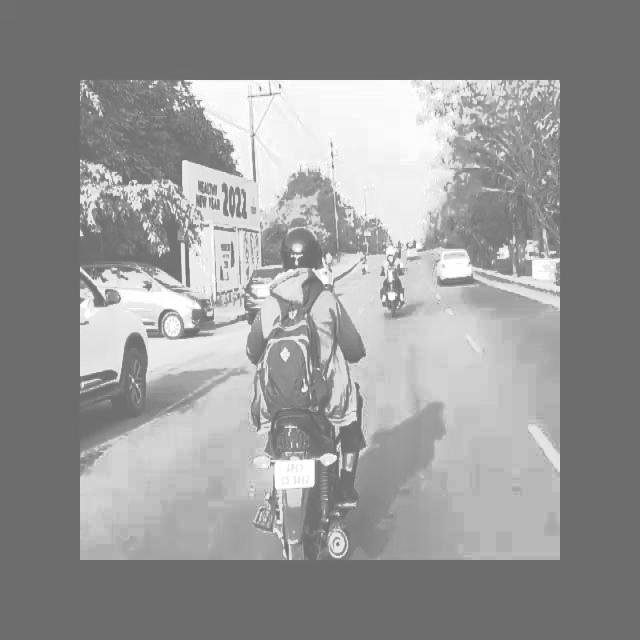Car: (112, 252, 214, 348), (427, 231, 485, 291)
